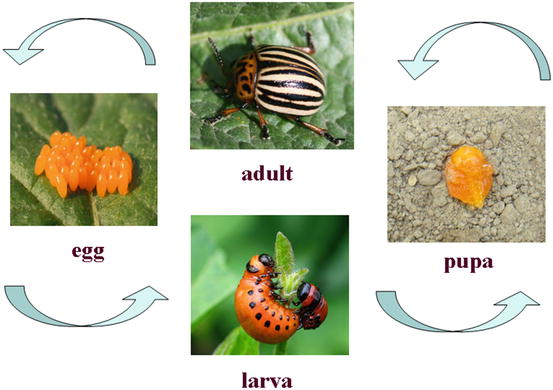hrosc: (222, 37, 328, 130)
